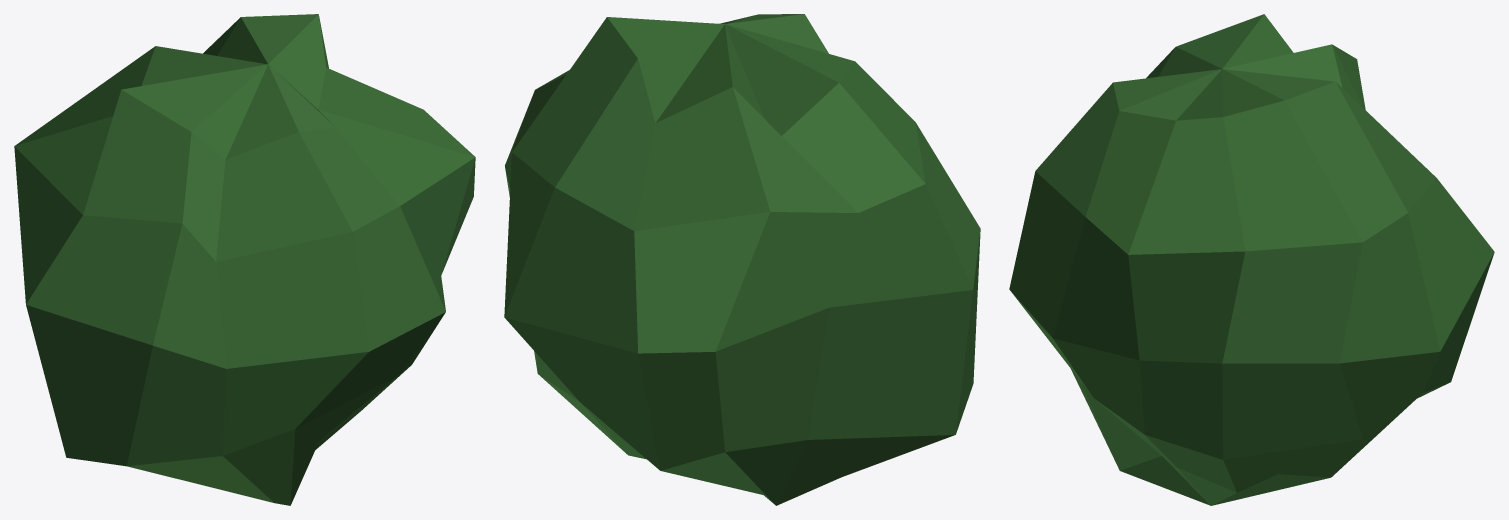
Rendered from GreenObject.obj.
3 views of the same model, side by side, from view 1: azimuth 30°, elevation 25°; view 2: azimuth 150°, elevation 25°; view 3: azimuth 270°, elevation 25° (orthographic). The views are drawn at different scales.
Parts seen in each view (by area): view 1: Sphere; view 2: Sphere; view 3: Sphere.
Part boxes in pixels (x1,y1,x2,y2): Sphere: (14, 14, 475, 505); Sphere: (504, 14, 980, 505); Sphere: (1009, 14, 1494, 505).
Bounding box in the file's own units: 225 × 211 × 205.
